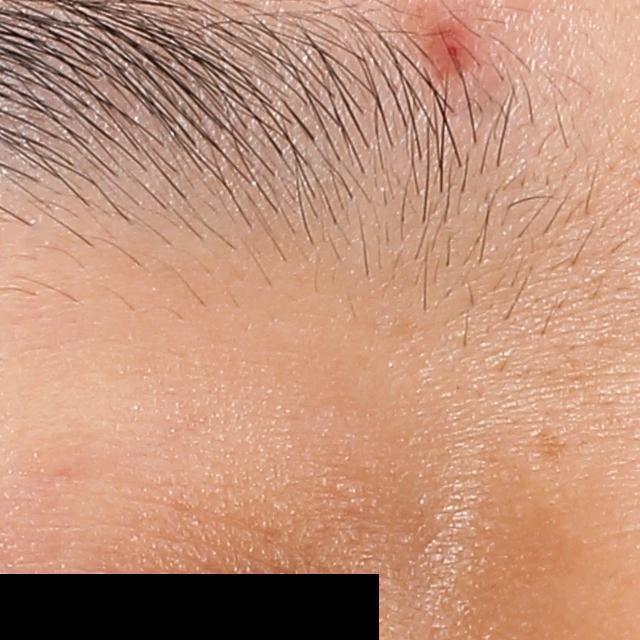melasma: (534, 426, 571, 466)
